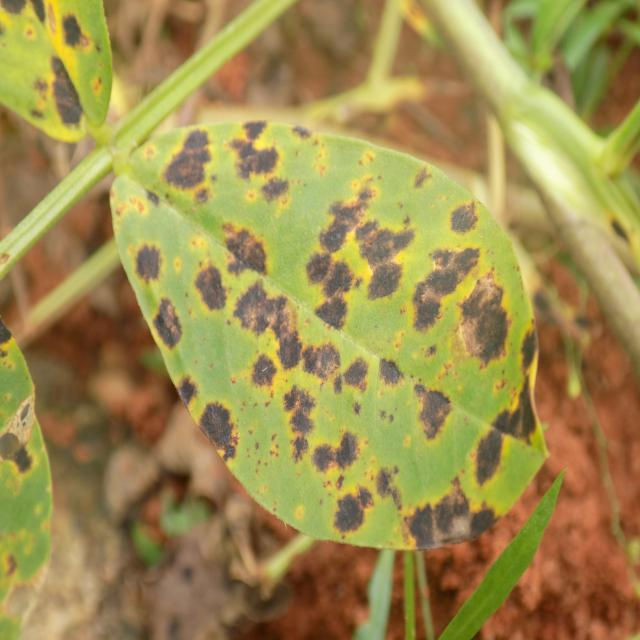Ground nut_tikka leaf spot: (112, 120, 555, 550)
